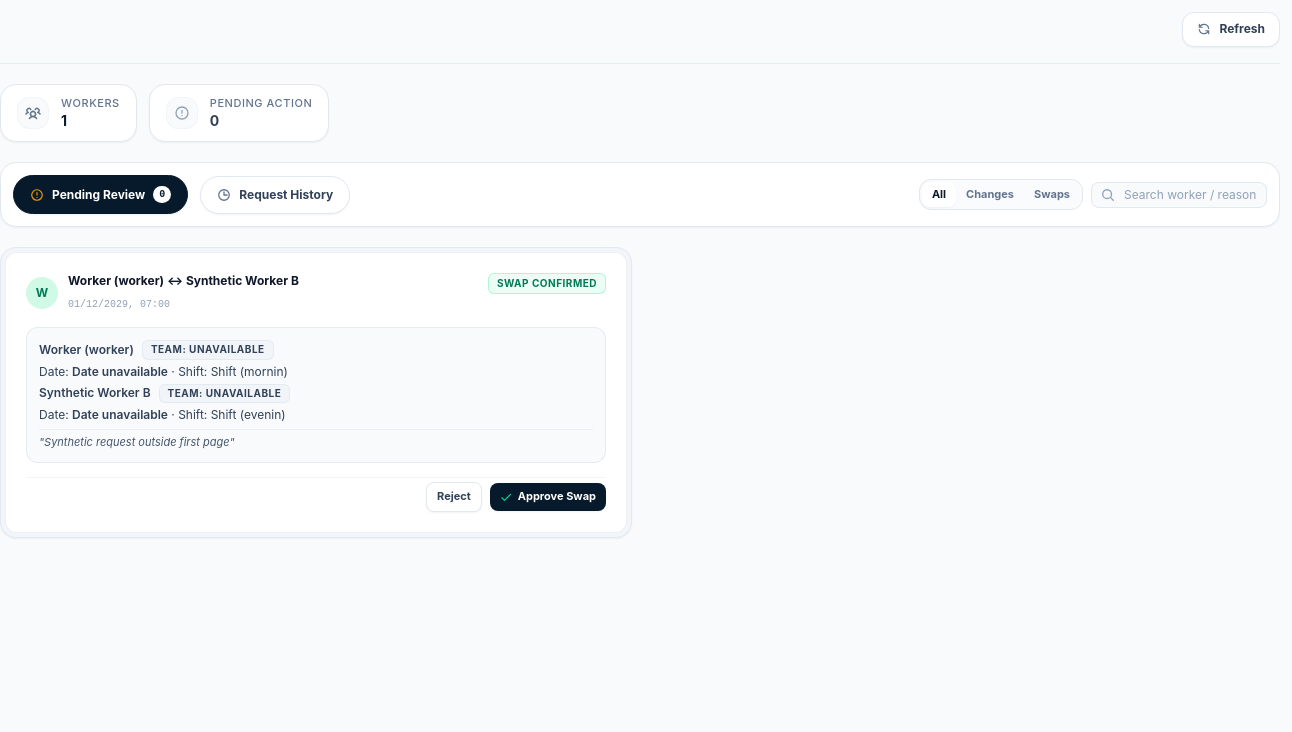
Scenario: notification request navigation › does not announce approval when the Backend reports a conflicted swap
Click the button "Approve Swap": {"x": 548, "y": 497} [490,484,606,511]
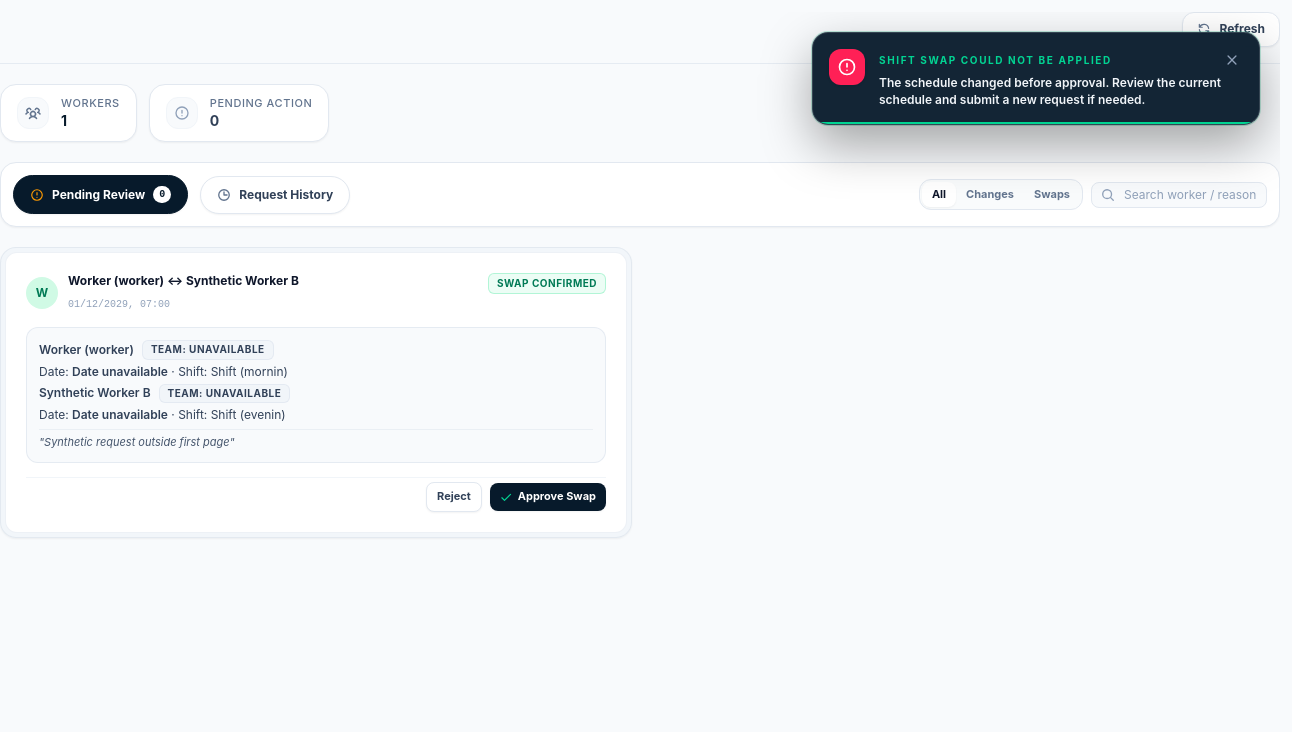
Expected: the text "Shift Swap Could Not Be Applied" is shown, [879,52,1112,68]
